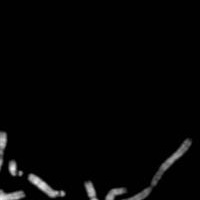chromosome: (118, 138, 191, 200), (27, 173, 65, 198), (85, 178, 125, 200), (92, 187, 127, 200), (0, 131, 7, 181), (8, 160, 23, 177), (0, 191, 26, 200), (0, 189, 13, 200)
